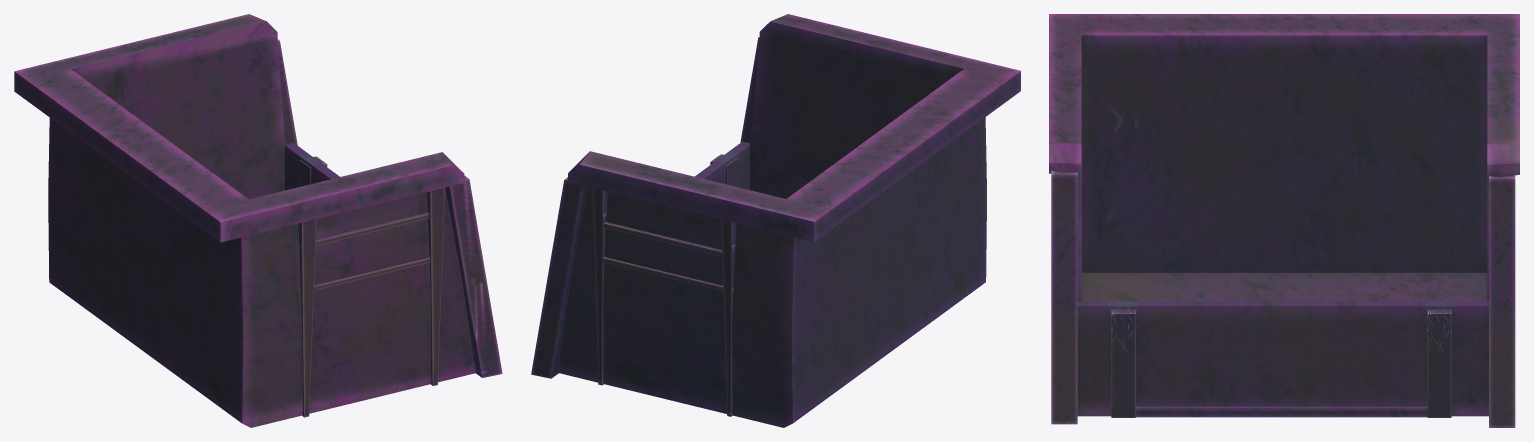
The model's file is bin_plastic_atate02.fbx.
3 renders of one model, left to right at view 1: azimuth 30°, elevation 25°; view 2: azimuth 150°, elevation 25°; view 3: azimuth 270°, elevation 25°, orthographic. The views are drawn at different scales.
Parts seen in each view (by area): view 1: polySurface29, polySurface34, polySurface37, polySurface38, polySurface35, polySurface41, polySurface40; view 2: polySurface29, polySurface35, polySurface36, polySurface30, polySurface33, polySurface39, polySurface34; view 3: polySurface29, polySurface34, polySurface35, polySurface32, polySurface31, polySurface42.
Boxes of the visible parts, x1,y1,x2,y2 form: polySurface29: (14,14,475,427); polySurface34: (445,176,502,377); polySurface37: (298,219,316,417); polySurface38: (427,188,445,385); polySurface35: (277,39,297,145); polySurface41: (315,212,429,245); polySurface40: (314,257,430,290); polySurface29: (557,14,1020,427); polySurface35: (531,177,587,378); polySurface36: (721,219,736,416); polySurface30: (592,188,607,385); polySurface33: (603,222,722,256); polySurface39: (603,257,723,291); polySurface34: (740,37,759,143); polySurface29: (1049,14,1519,416); polySurface34: (1051,171,1077,424); polySurface35: (1489,175,1515,427); polySurface32: (1136,406,1427,417); polySurface31: (1111,310,1135,417); polySurface42: (1427,310,1451,417).
Size of the model in its own units: 0.0955 by 0.0722 by 0.1197.
1 material, 1 textured.
